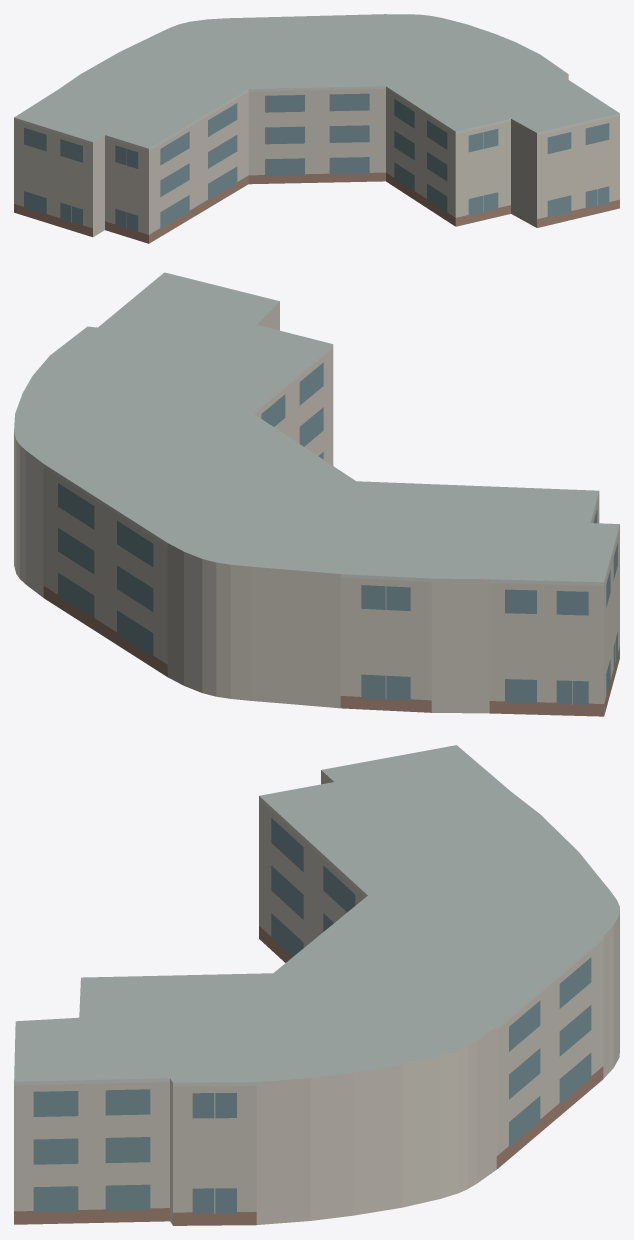
File: survey-upis-32497881.glb
The picture shows the model from 3 angles, top to bottom: view 1: azimuth 30°, elevation 25°; view 2: azimuth 150°, elevation 25°; view 3: azimuth 270°, elevation 25°; orthographic projection. The views are drawn at different scales.
Parts seen in each view (by area): view 1: survey-upis-32497881.tmp; view 2: survey-upis-32497881.tmp; view 3: survey-upis-32497881.tmp.
Part boxes in pixels (x1,y1,x2,y2): survey-upis-32497881.tmp: (14,14,619,243); survey-upis-32497881.tmp: (14,272,619,716); survey-upis-32497881.tmp: (14,745,619,1225).
Size of the model in its own units: 46.35 by 9.15 by 35.13.
